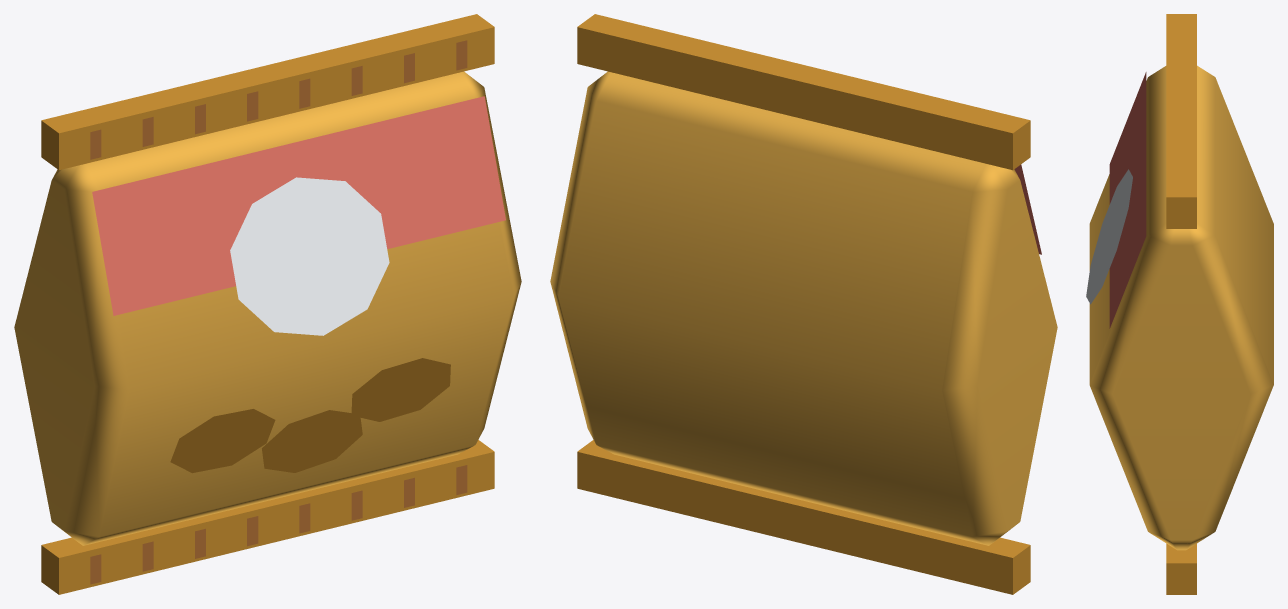
Rendered from CM_Product_ChipBag.fbx.
3 views of the same model, side by side, from view 1: azimuth 30°, elevation 25°; view 2: azimuth 150°, elevation 25°; view 3: azimuth 270°, elevation 25° (orthographic). The views are drawn at different scales.
Visible parts, largest first — view 1: ChipBag; view 2: ChipBag; view 3: ChipBag.
Boxes of the visible parts, x1=… form: ChipBag: x1=14, y1=14, x2=521, y2=594; ChipBag: x1=550, y1=14, x2=1057, y2=594; ChipBag: x1=1086, y1=14, x2=1273, y2=594.
Bounding box in the file's own units: 1.98 × 0.8557 × 2.
Materials: 1 (1 with a texture image).
